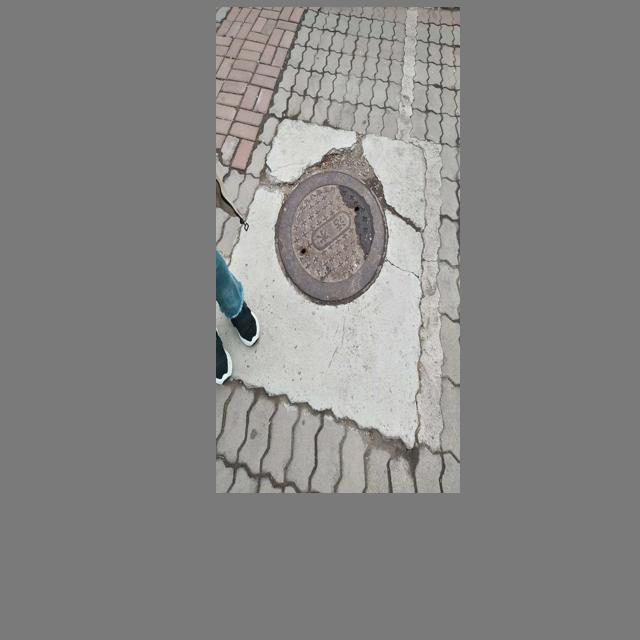circle: (253, 137, 416, 327)
